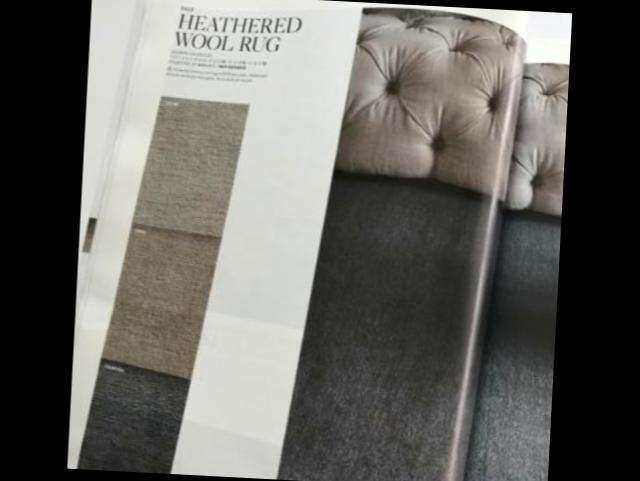cardboard paper: (67, 0, 362, 479)
